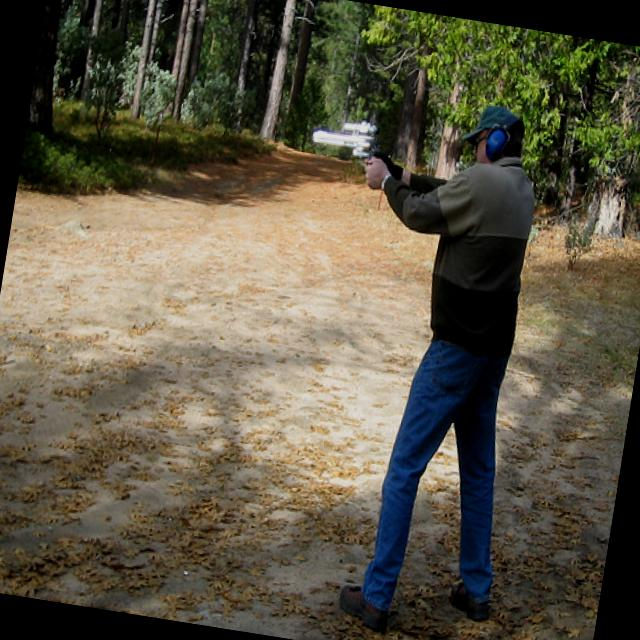handgun: (307, 109, 382, 160)
